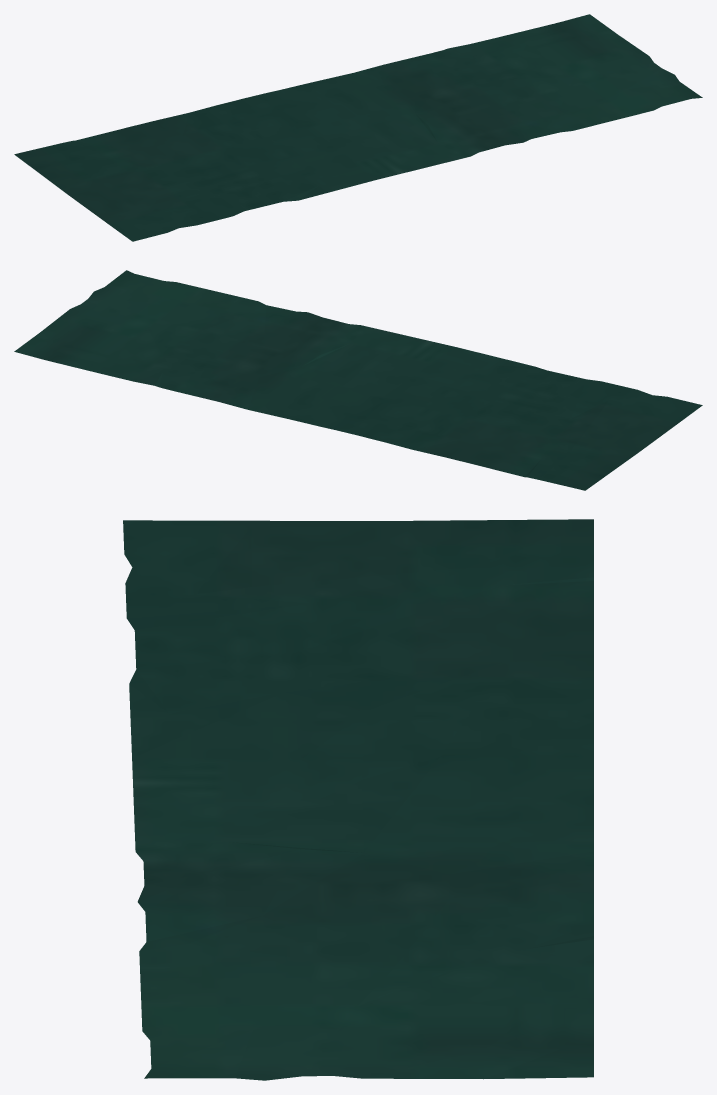
3 views of the same model, one above another, from view 1: azimuth 30°, elevation 25°; view 2: azimuth 150°, elevation 25°; view 3: azimuth 270°, elevation 25° (orthographic). The views are drawn at different scales.
Bounding box in the file's own units: 176 × 0.4124 × 62.41.
Materials: 1 (1 with a texture image).
